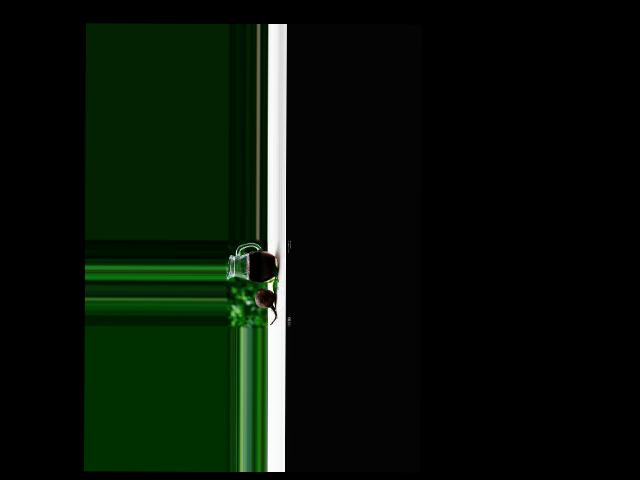beet: (255, 288, 277, 324)
